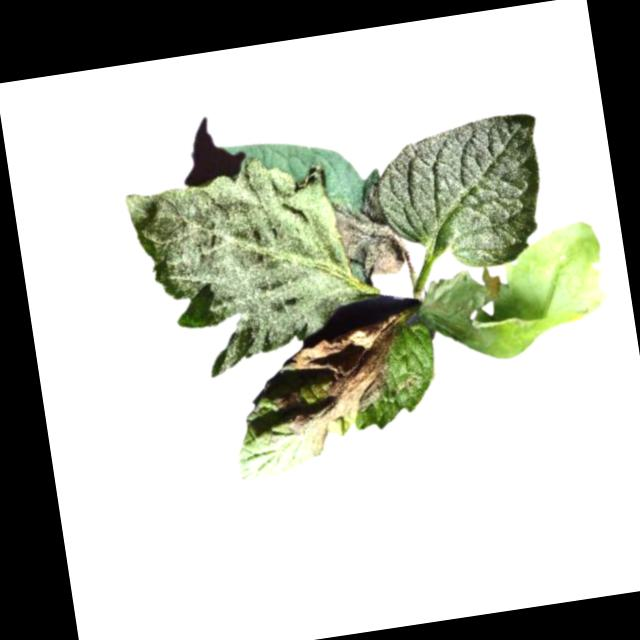Late_blight: (146, 192, 323, 382), (416, 218, 617, 370), (262, 311, 420, 460), (331, 177, 408, 284)
healthy: (368, 109, 556, 281)
